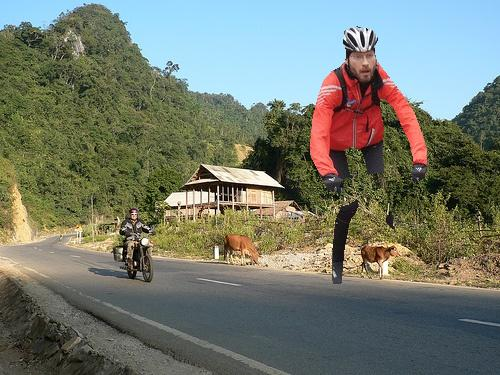tampered: (311, 27, 427, 284)
